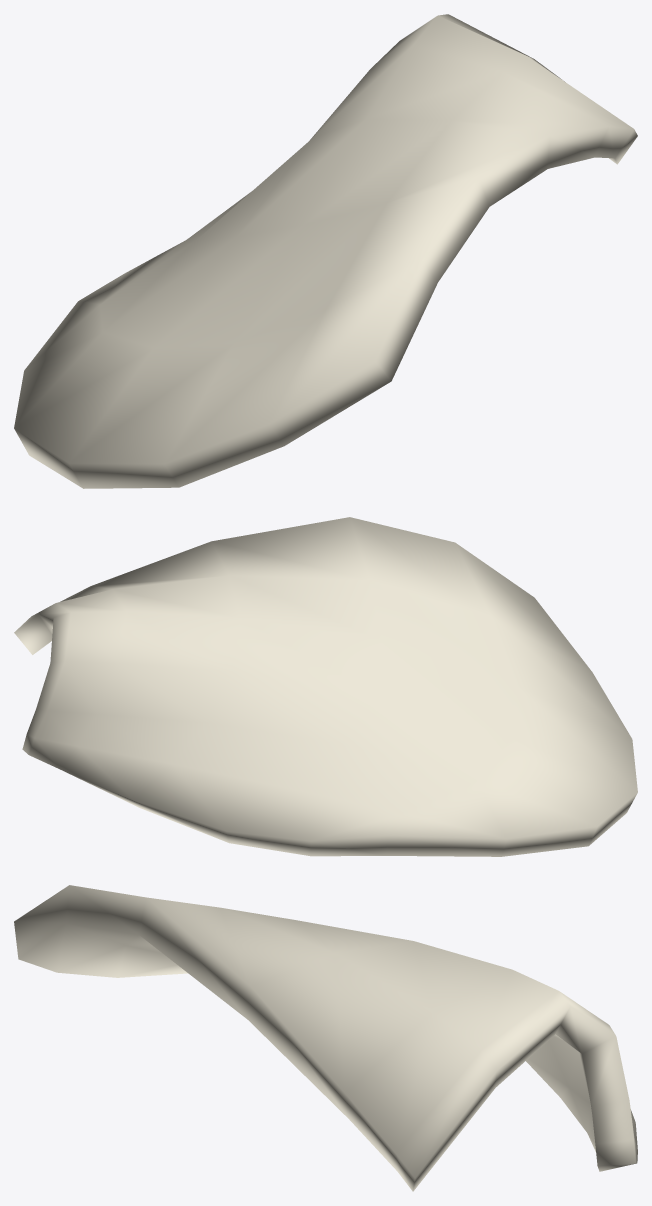
3 views of the same model, one above another, from view 1: azimuth 30°, elevation 25°; view 2: azimuth 150°, elevation 25°; view 3: azimuth 270°, elevation 25° (orthographic). The views are drawn at different scales.
Parts seen in each view (by area): view 1: ZA_20bb01324fc250d0; view 2: ZA_20bb01324fc250d0; view 3: ZA_20bb01324fc250d0.
Part boxes in pixels (<box>): ZA_20bb01324fc250d0: <box>14,14,637,488</box>; ZA_20bb01324fc250d0: <box>14,517,637,856</box>; ZA_20bb01324fc250d0: <box>14,885,637,1191</box>.
Size of the model in its own units: 0.0108 by 0.00388 by 0.00805.
